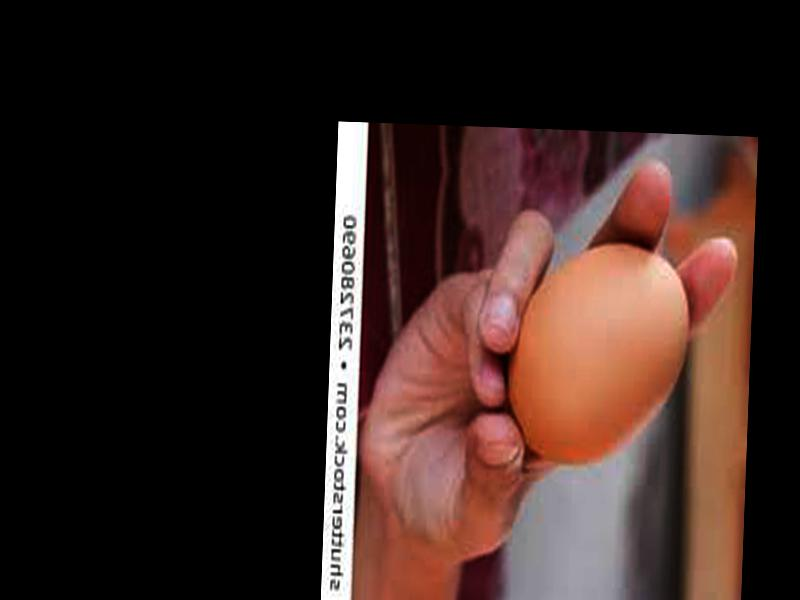Eggs: (506, 236, 690, 465)
